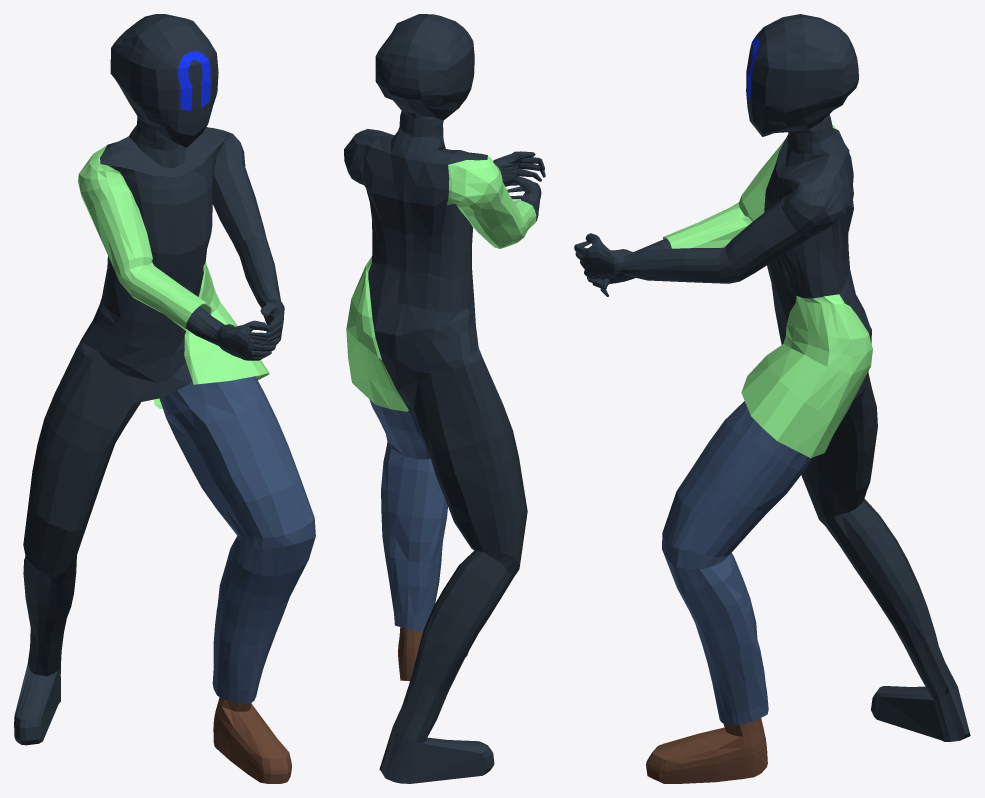
File: Mar_WF_000028.obj
3 views of the same model, side by side, from view 1: azimuth 30°, elevation 25°; view 2: azimuth 150°, elevation 25°; view 3: azimuth 270°, elevation 25° (orthographic). The views are drawn at different scales.
Visible parts, largest first — view 1: Cube.000_Cube.001; view 2: Cube.000_Cube.001; view 3: Cube.000_Cube.001.
Part boxes in pixels (left/top/right/bottom): Cube.000_Cube.001: left=14, top=14, right=315, bottom=783; Cube.000_Cube.001: left=344, top=14, right=545, bottom=783; Cube.000_Cube.001: left=574, top=14, right=970, bottom=783.
Size of the model in its own units: 1.12 by 3.72 by 1.79.
